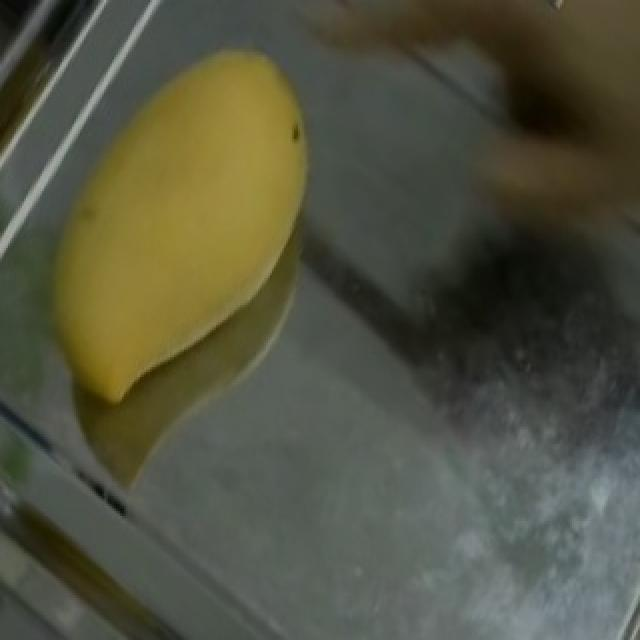fruit: (0, 0, 392, 414), (364, 0, 640, 149)
